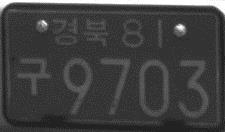0: (137, 57, 172, 118)
1: (153, 18, 168, 50)
3: (175, 57, 208, 121)
7: (98, 54, 132, 118)
8: (120, 17, 145, 49)
9: (61, 55, 94, 117)
경북_O: (50, 17, 109, 49)
구: (15, 54, 52, 96)
